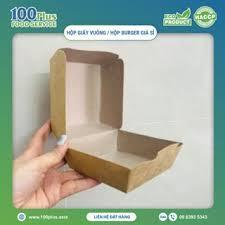box: (50, 48, 184, 194)
